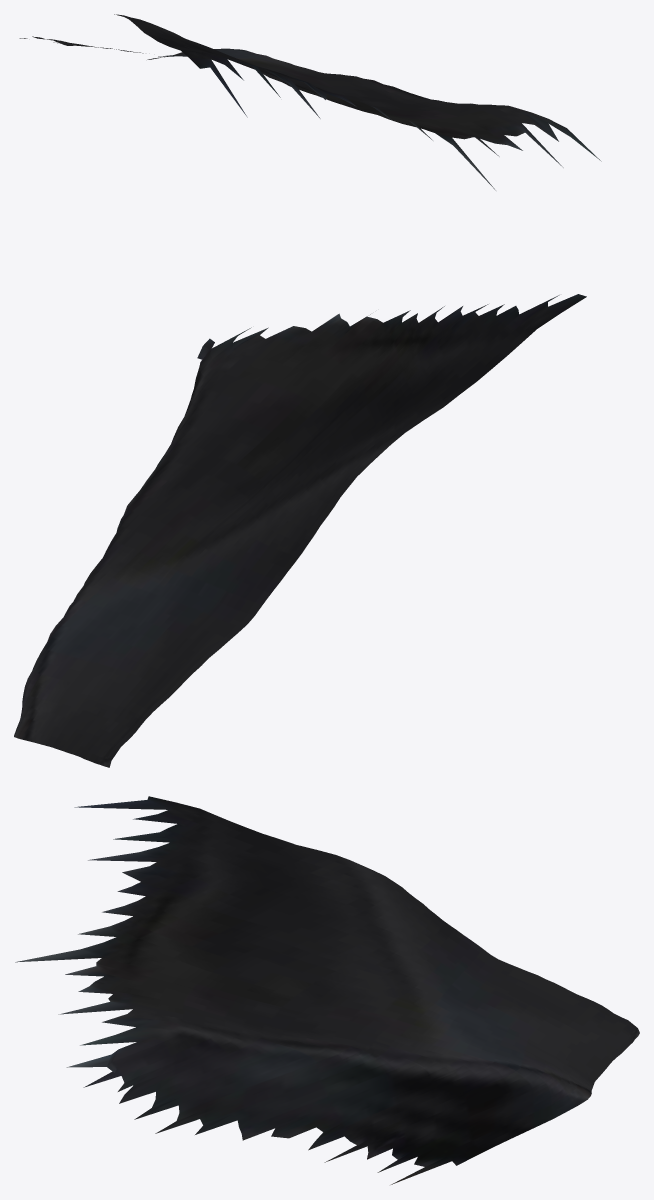
Rendered from observed-surface.glb.
3 renders of one model, top to bottom at view 1: azimuth 30°, elevation 25°; view 2: azimuth 150°, elevation 25°; view 3: azimuth 270°, elevation 25°, orthographic. The views are drawn at different scales.
Visible parts, largest first — view 1: geometry_0; view 2: geometry_0; view 3: geometry_0.
Boxes of the visible parts, left/top/right/bottom form: geometry_0: left=19, top=14, right=601, bottom=190; geometry_0: left=14, top=294, right=586, bottom=767; geometry_0: left=15, top=796, right=639, bottom=1184.
Bounding box in the file's own units: 0.5496 × 0.4841 × 0.991.
1 material, 1 textured.
